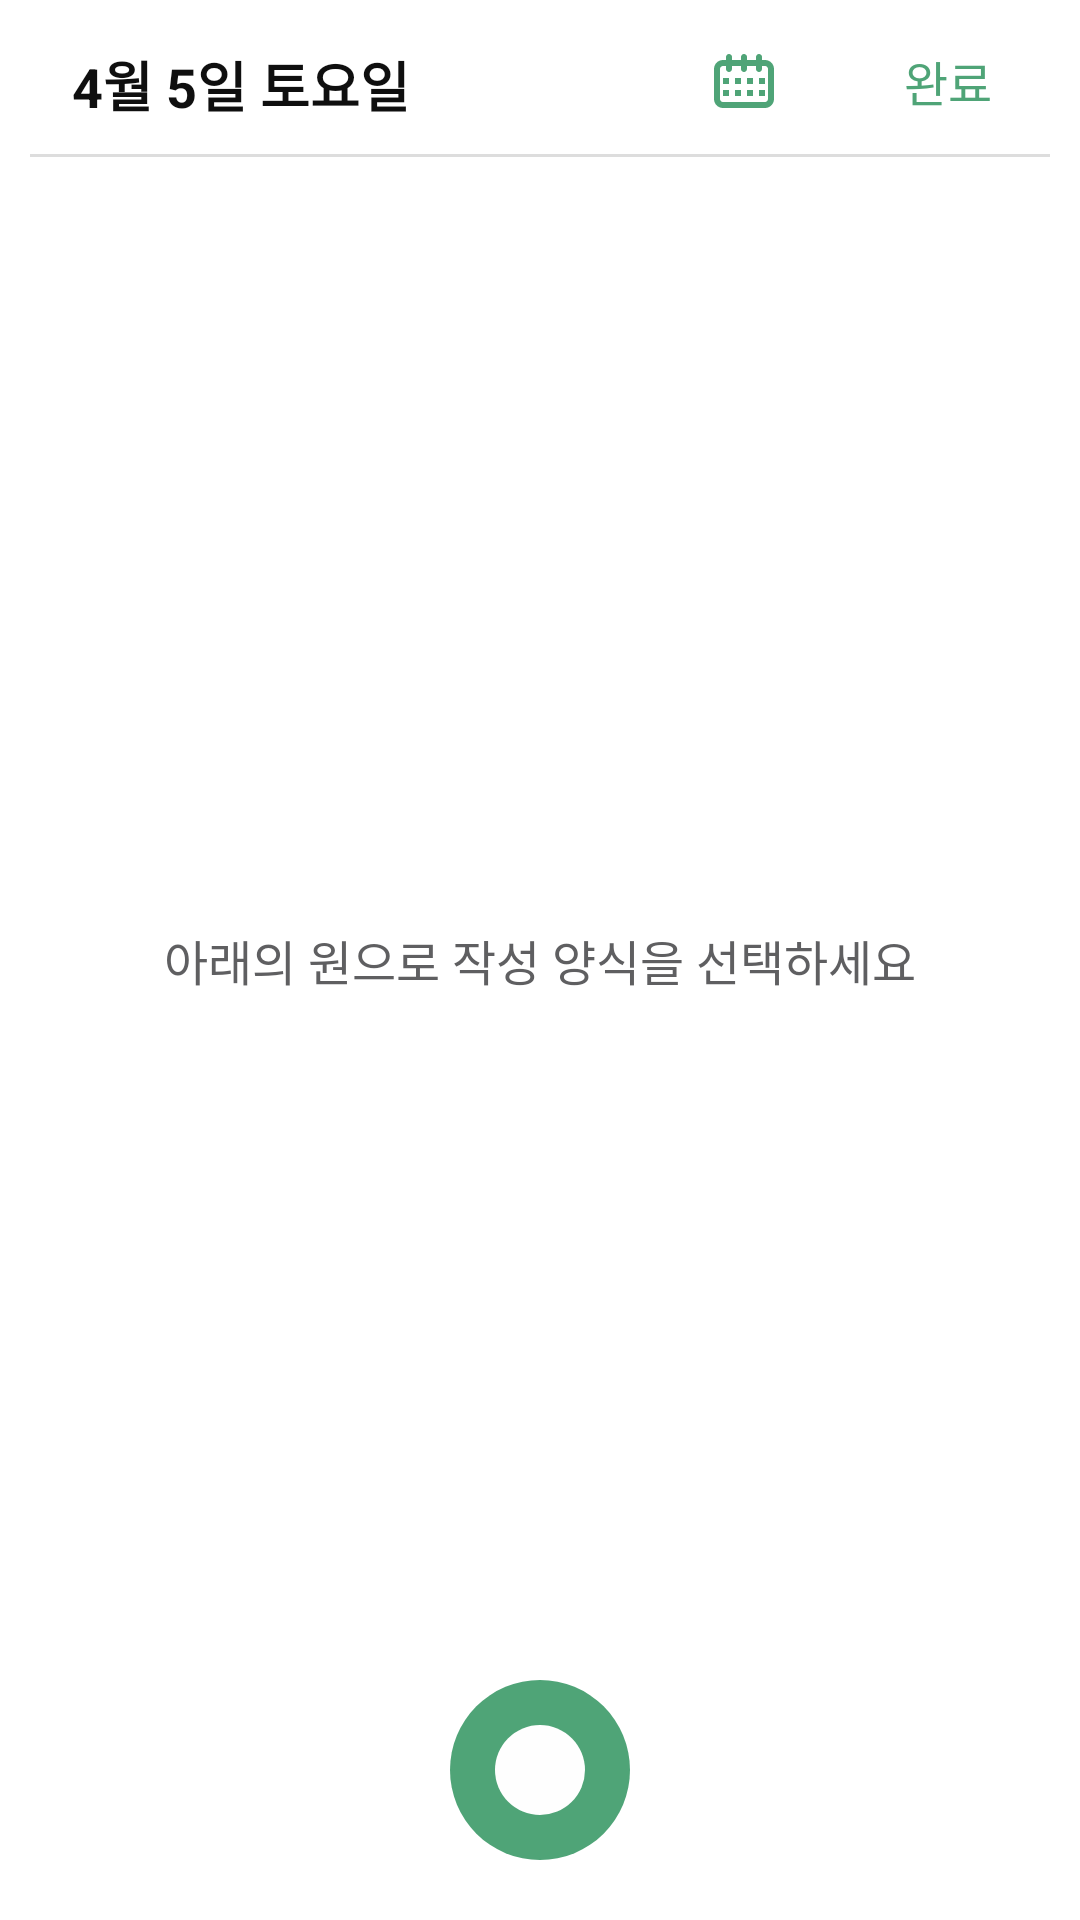

Where to tap for icons on this 1080*1920 app screen, as point (x, y):
캘린더 열기: point (744, 81)
